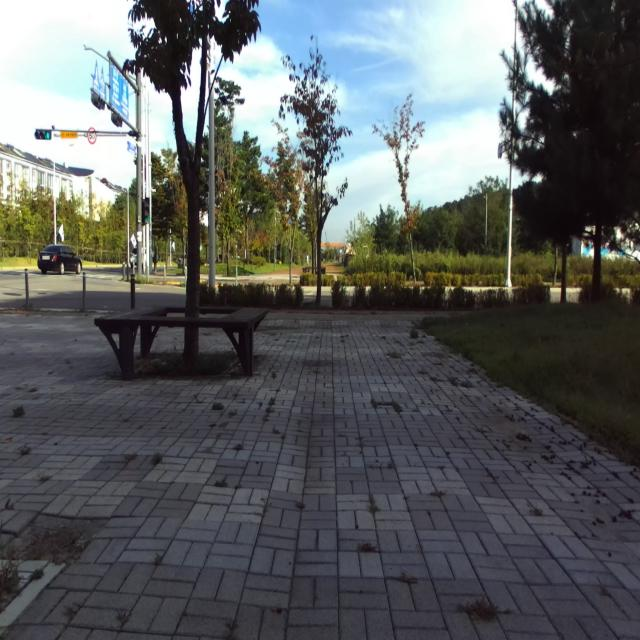초록불: (144, 197, 150, 224)
